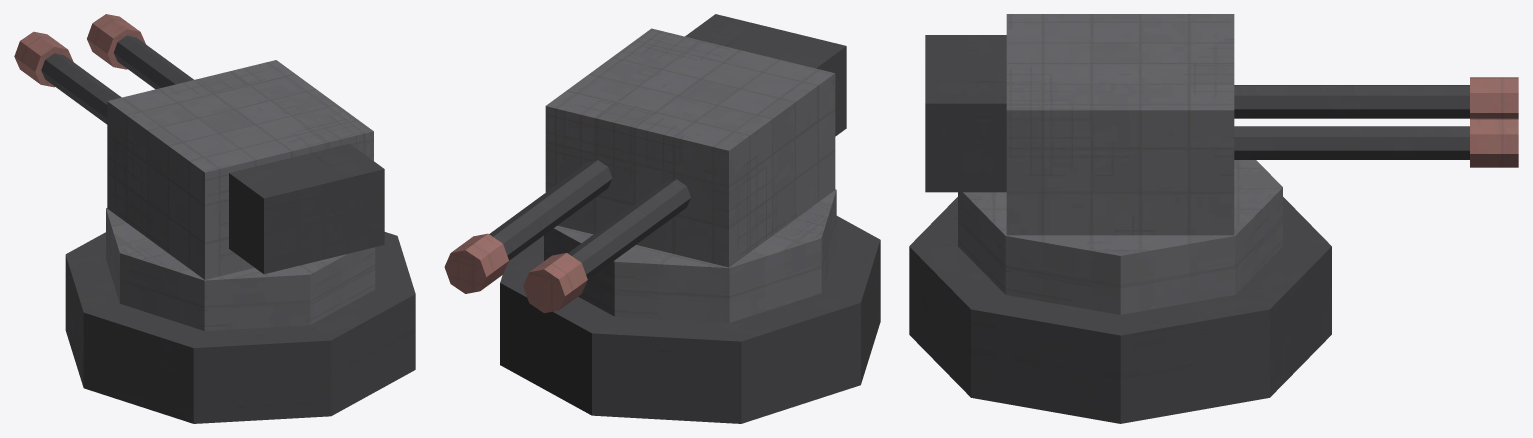
Rendered from turret.glb.
3 renders of one model, left to right at view 1: azimuth 30°, elevation 25°; view 2: azimuth 150°, elevation 25°; view 3: azimuth 270°, elevation 25°, orthographic. The views are drawn at different scales.
Visible parts, largest first — view 1: head, Turret_Base; view 2: head, Turret_Base; view 3: head, Turret_Base.
Boxes of the visible parts, box(x1,y1,x2,y2) form: head: box(14, 14, 384, 279); Turret_Base: box(65, 208, 415, 423); head: box(444, 14, 846, 313); Turret_Base: box(500, 189, 880, 423); head: box(925, 14, 1518, 235); Turret_Base: box(909, 160, 1331, 423).
Bounding box in the file's own units: 13 × 9.25 × 18.75.
2 materials, 2 textured.
